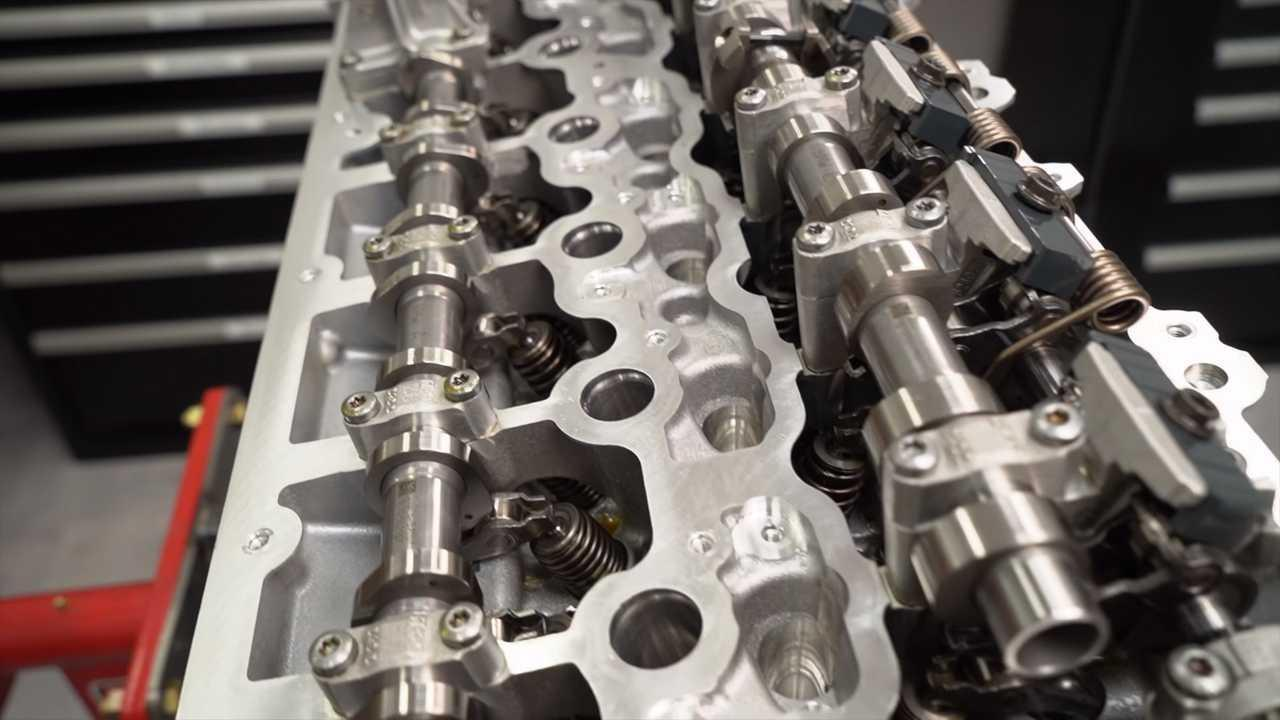hole: (234, 524, 279, 562), (1168, 320, 1196, 342)
